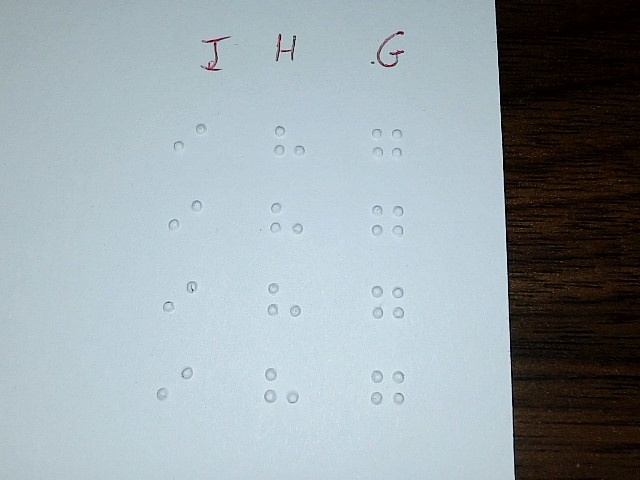G: (369, 118, 405, 175), (370, 195, 406, 252), (370, 276, 406, 333), (370, 362, 406, 419)
H: (271, 116, 308, 176), (269, 192, 306, 252), (266, 273, 303, 333), (263, 359, 300, 419)
I: (172, 112, 209, 172), (167, 190, 204, 250), (161, 271, 198, 331), (156, 356, 193, 416)
